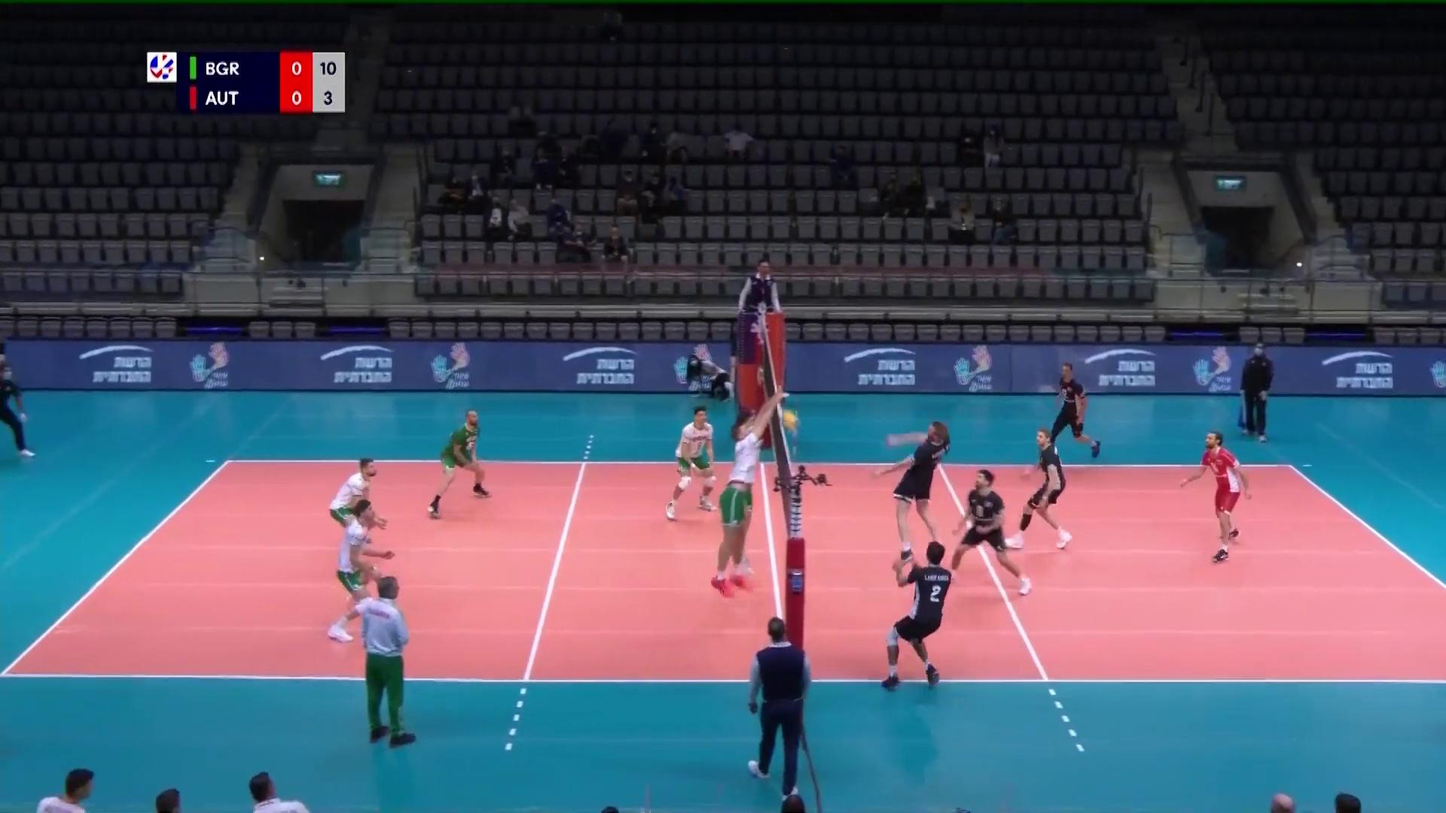ball: (779, 410, 800, 430)
